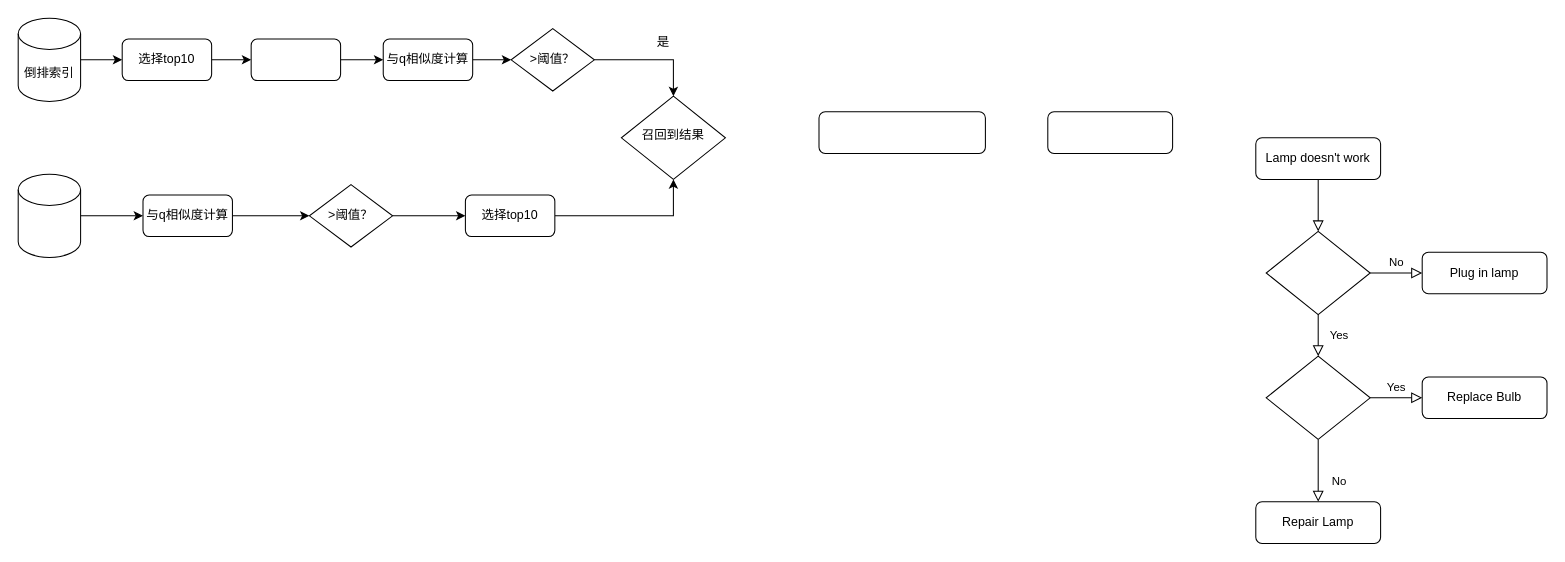
The diagram is 1565 pixels wide and 562 high, and some of its shapes have lost their labels. Here are the shapes that lost their labels. From the top down, the centre of each, then its label:
At point (295, 59): "embedding模型服务".
At point (901, 132): "Rerank模型排序 （优先输出来源是q）".
At point (1110, 132): "优先输出来源是q的".
At point (49, 215): "向量索引".
At point (1317, 272): "Lamp plugged in?".
At point (1317, 397): "Bulb burned out?".
